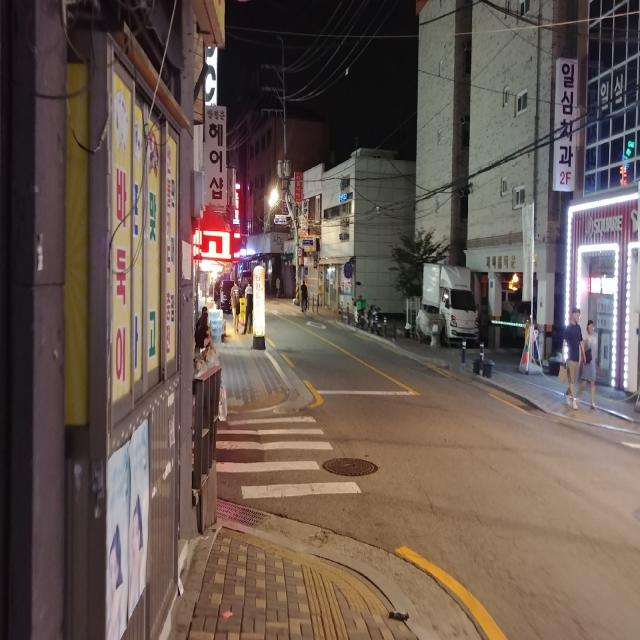횡단보도: (191, 414, 363, 502)
